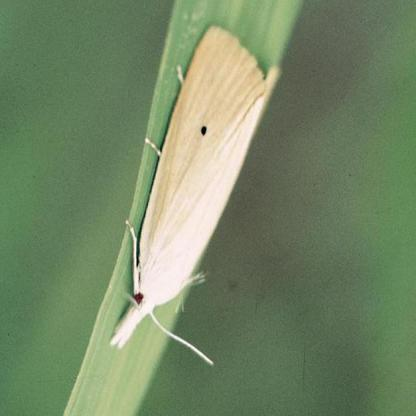stem-borer: (104, 23, 286, 354)
